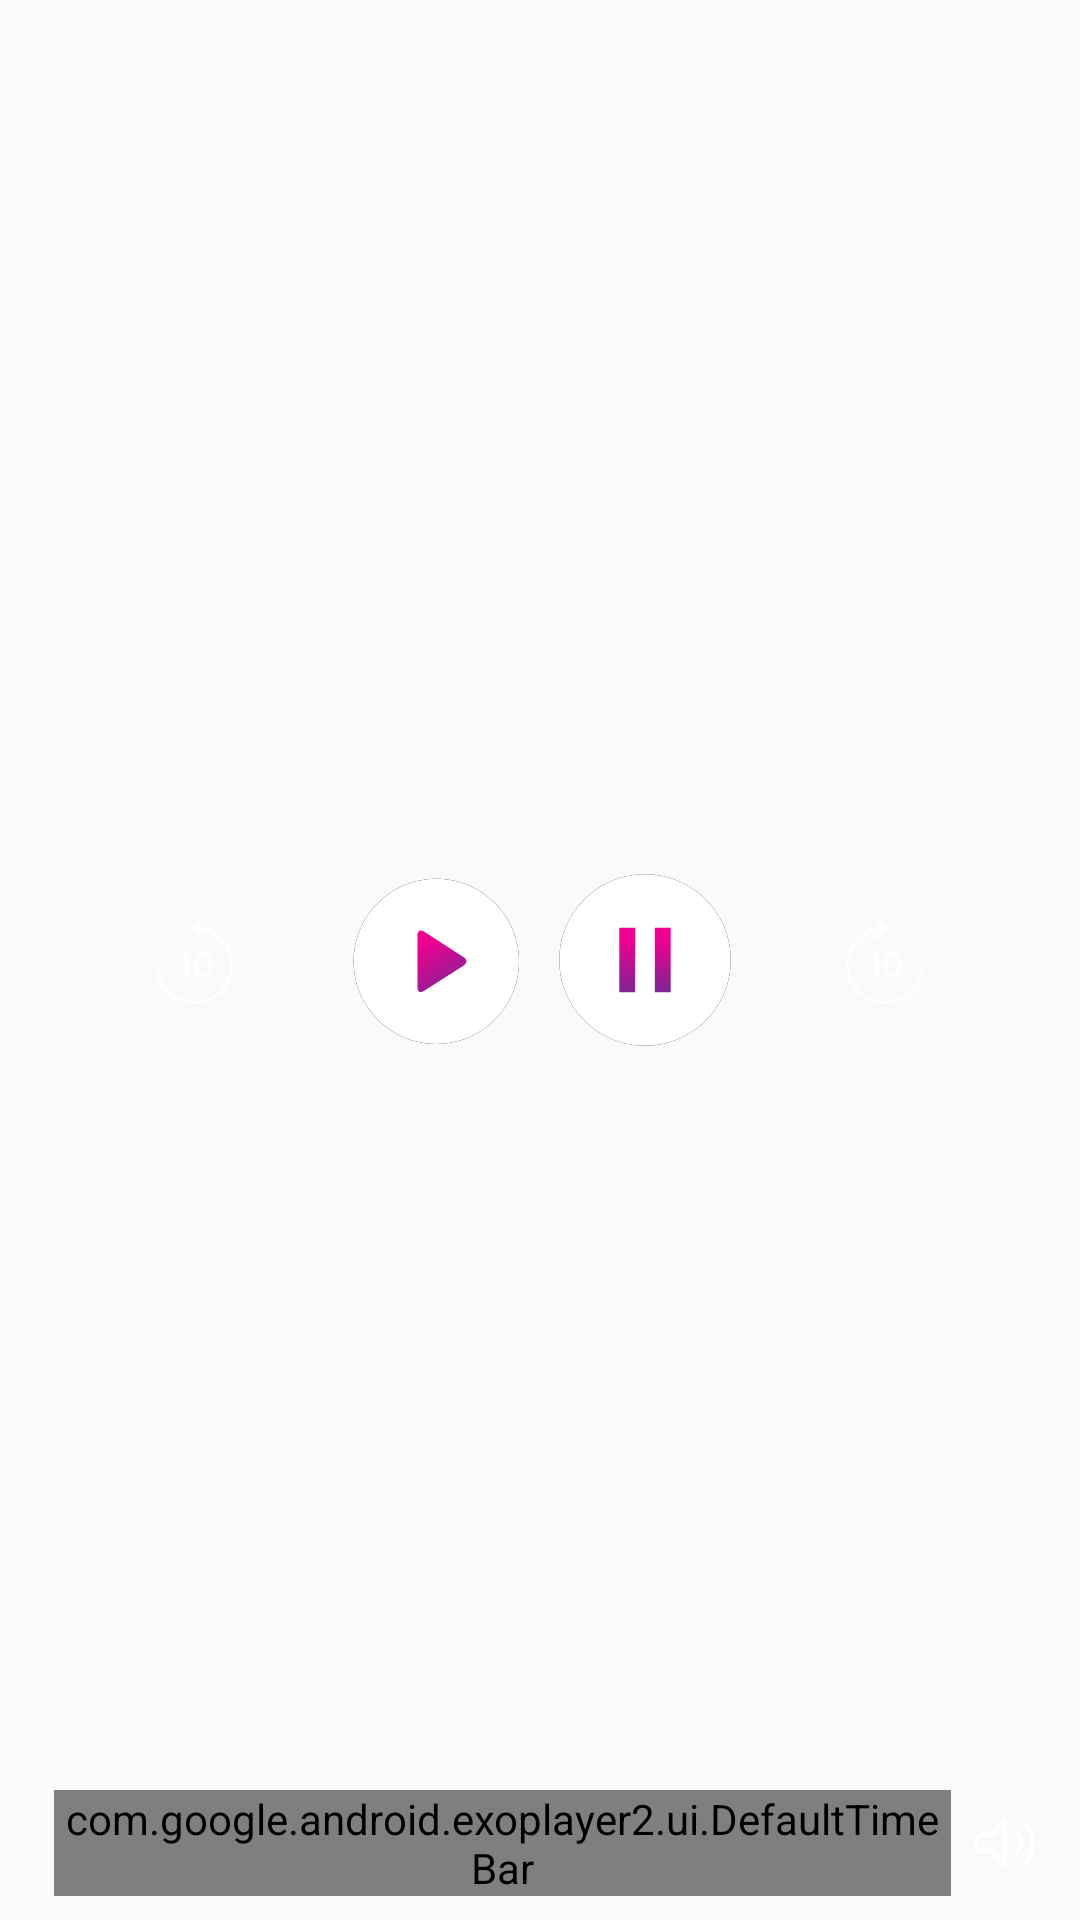

Icons on this 1080w x 1920h Android screen, each with its box as (left=x1, top=y1, right=x2, bottom=y2):
pause: (left=559, top=874, right=731, bottom=1046)
play home page: (left=353, top=878, right=519, bottom=1044)
